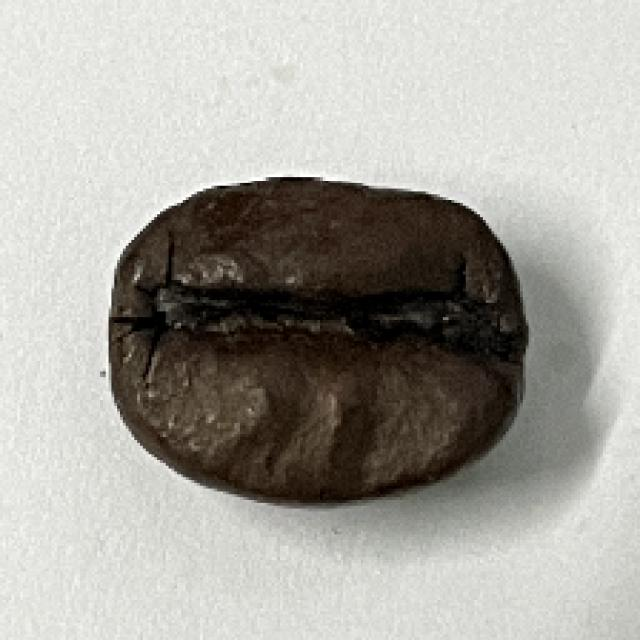bean: (98, 174, 529, 503)
